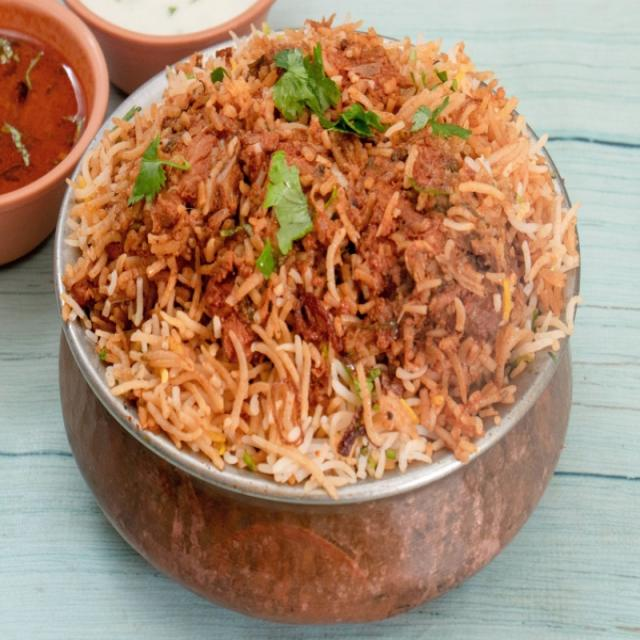Biryani: (69, 21, 584, 487)
